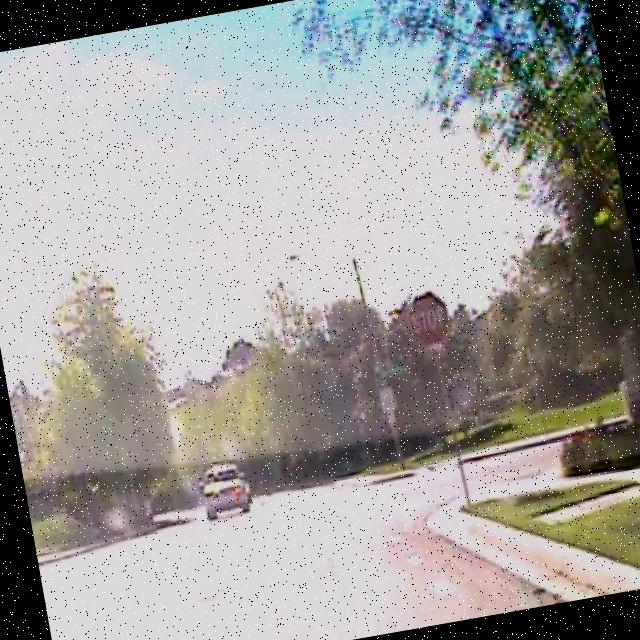Stop: (400, 289, 452, 352)
